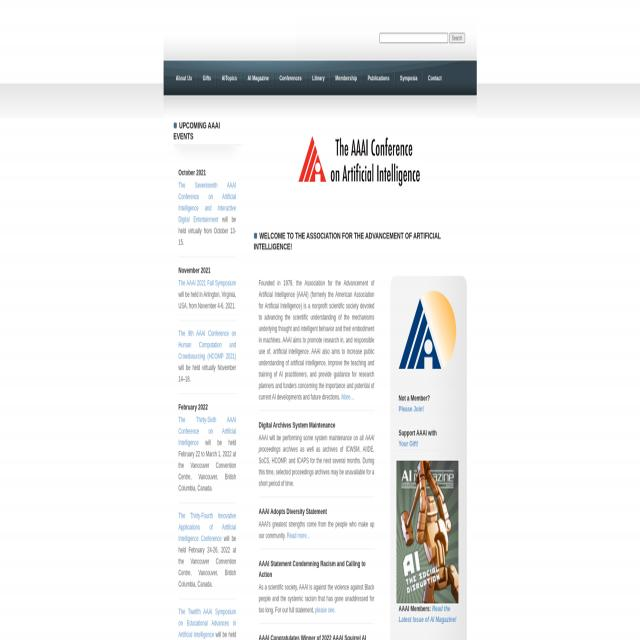button: (254, 120, 454, 210), (396, 461, 459, 605), (398, 291, 458, 369), (242, 70, 274, 86), (274, 70, 306, 86), (330, 70, 362, 86), (362, 70, 394, 86), (394, 70, 422, 86), (170, 70, 197, 86), (216, 70, 242, 86), (422, 70, 447, 86), (306, 70, 330, 86), (197, 70, 216, 86), (449, 34, 465, 44)
field: (380, 34, 448, 44)
